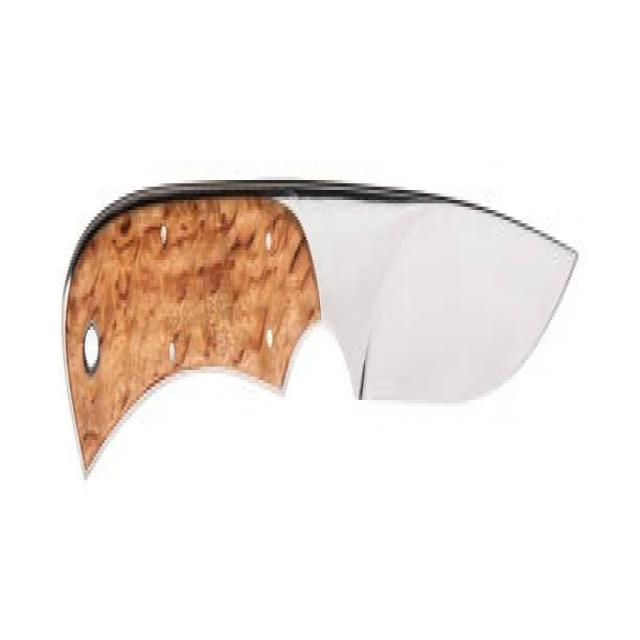knife: (57, 151, 582, 477)
